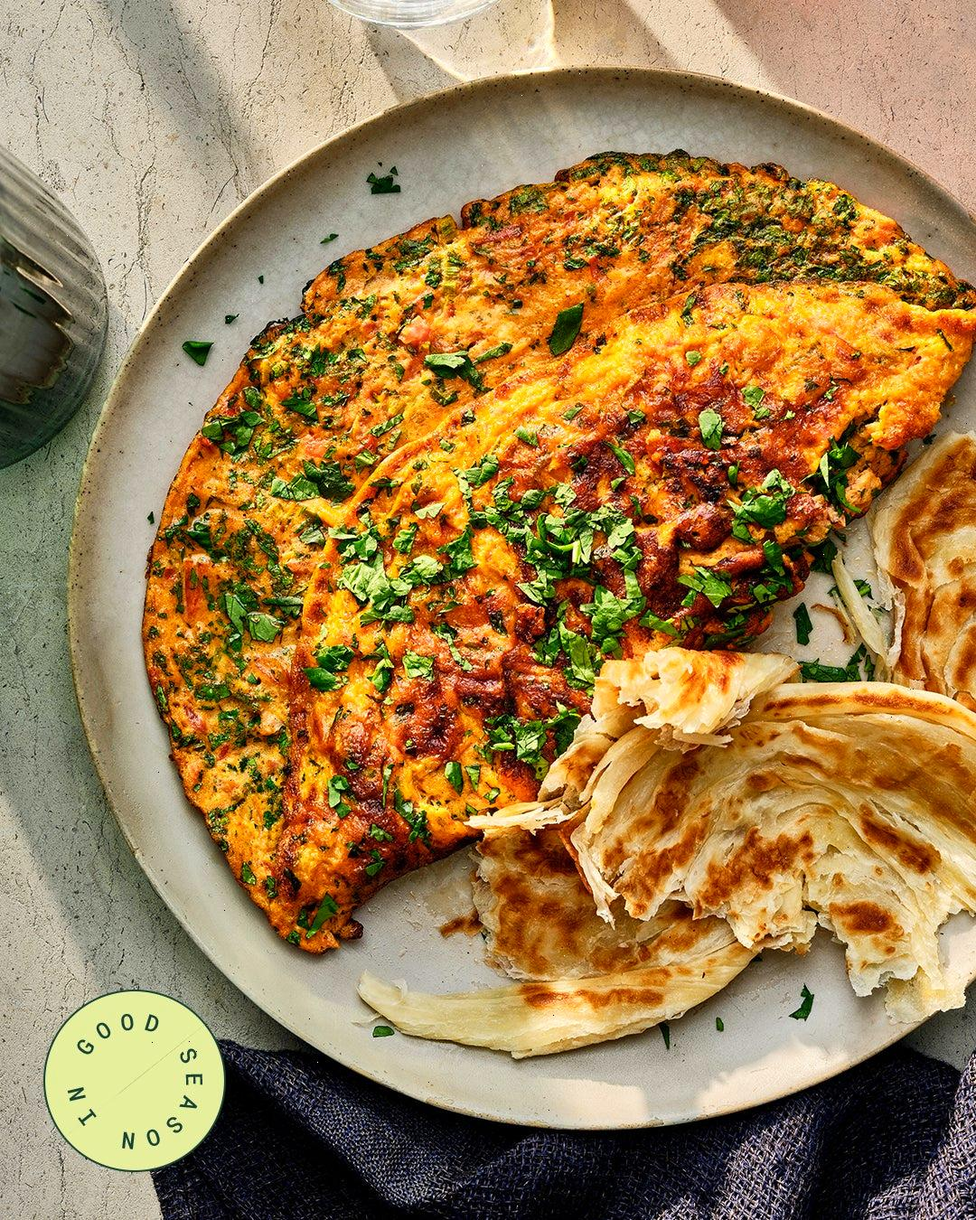omelette: (202, 220, 796, 700)
